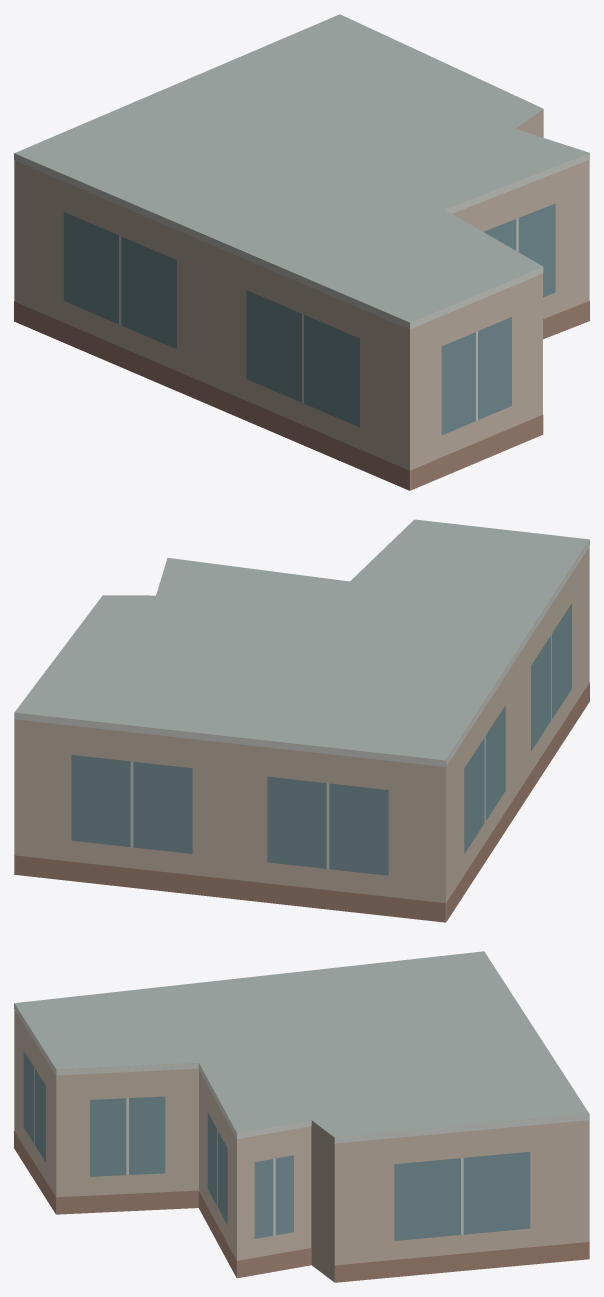
Rendered from survey-upis-32723019.glb.
The picture shows the model from 3 angles, top to bottom: view 1: azimuth 30°, elevation 25°; view 2: azimuth 150°, elevation 25°; view 3: azimuth 270°, elevation 25°; orthographic projection. The views are drawn at different scales.
Visible parts, largest first — view 1: survey-upis-32723019.tmp; view 2: survey-upis-32723019.tmp; view 3: survey-upis-32723019.tmp.
Part boxes in pixels (bbox=[...]): survey-upis-32723019.tmp: bbox=[14, 14, 589, 490]; survey-upis-32723019.tmp: bbox=[14, 519, 589, 922]; survey-upis-32723019.tmp: bbox=[14, 951, 589, 1282].
Bounding box in the file's own units: 8.42 × 3.05 × 10.98.
